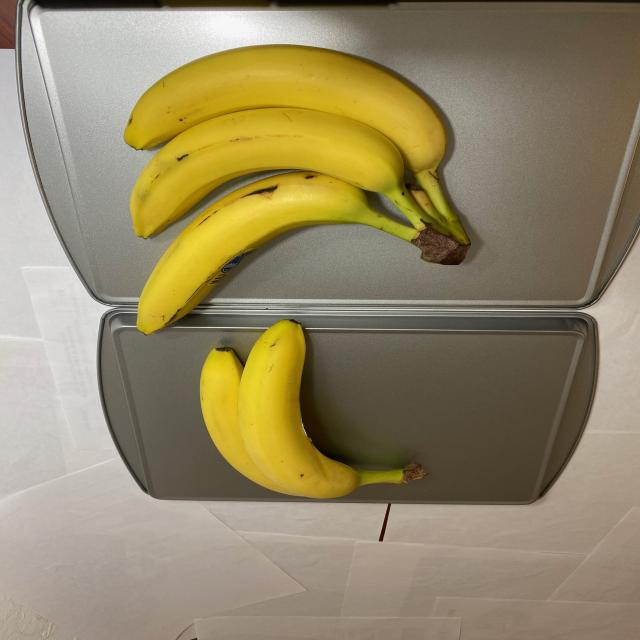banana: (122, 37, 490, 337), (201, 318, 427, 499)
